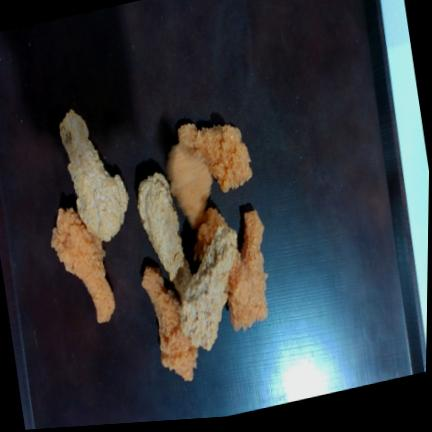chicken: (60, 109, 129, 241), (51, 208, 115, 323), (181, 227, 237, 350), (142, 267, 198, 381), (138, 172, 191, 281), (178, 123, 252, 192), (229, 210, 267, 330)
